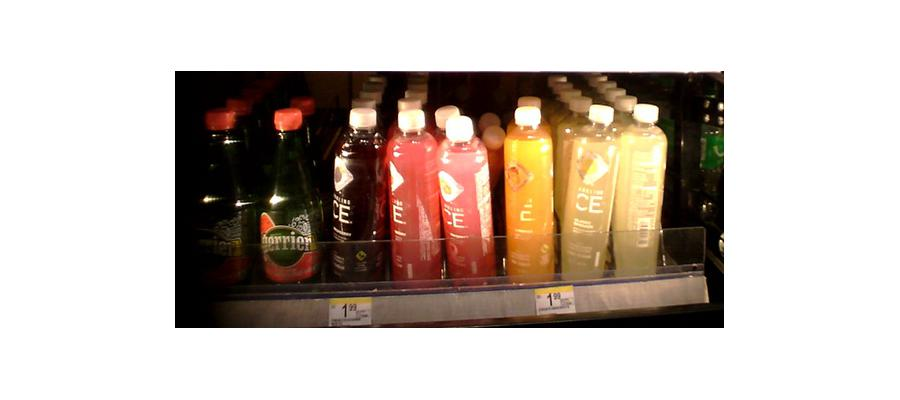bottle: (259, 107, 319, 290), (327, 108, 388, 285), (559, 103, 620, 276), (501, 102, 558, 281), (437, 116, 498, 281), (197, 108, 249, 292), (388, 105, 441, 282), (615, 98, 667, 278)
